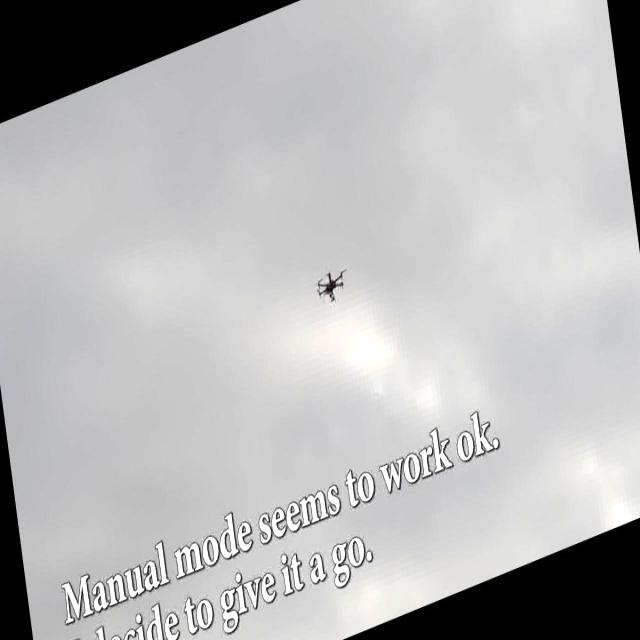drone: (311, 256, 352, 314)
